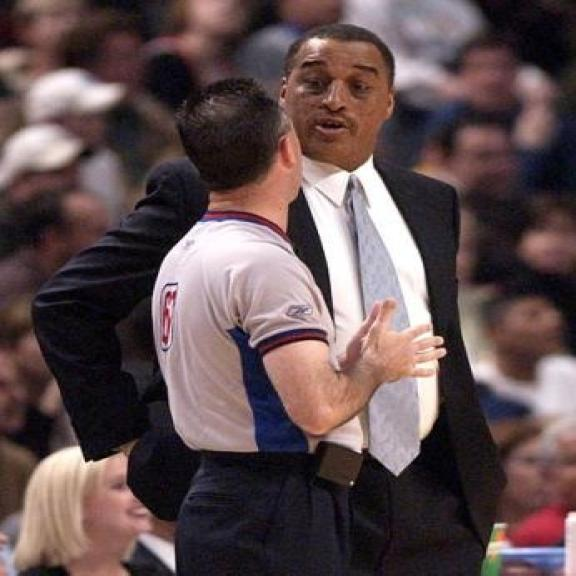face: (274, 37, 401, 162), (42, 190, 124, 293), (76, 439, 156, 544), (253, 111, 328, 209), (443, 120, 524, 206), (492, 298, 576, 364), (526, 198, 576, 284), (450, 42, 515, 108), (9, 160, 92, 211), (502, 424, 548, 512), (19, 13, 91, 63), (181, 0, 266, 40), (89, 34, 144, 93), (0, 349, 37, 436), (547, 424, 576, 511), (70, 108, 114, 146)
